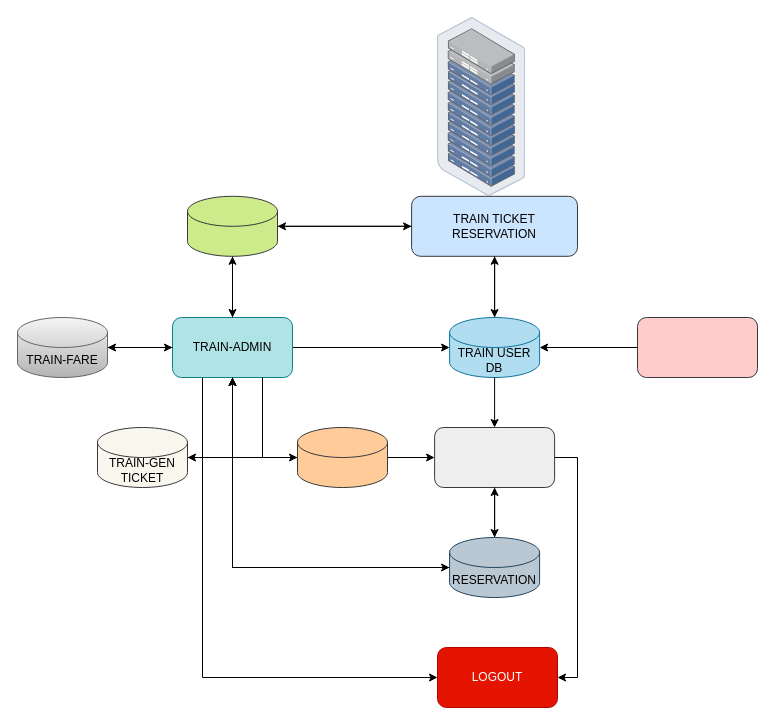
This 775x725 diagram has some shape labels left out. Here are the shapes that lost their labels. From the top down, the centre of each, then its label:
At (x=232, y=225): "ADMIN DB".
At (x=697, y=347): "NEW USER REGISTER".
At (x=342, y=457): "TRAINS".
At (x=494, y=457): "TRAIN-USER".
